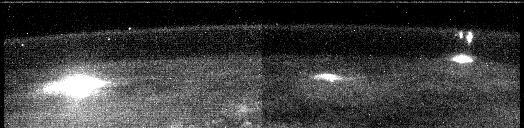positive: (452, 30, 475, 45)
